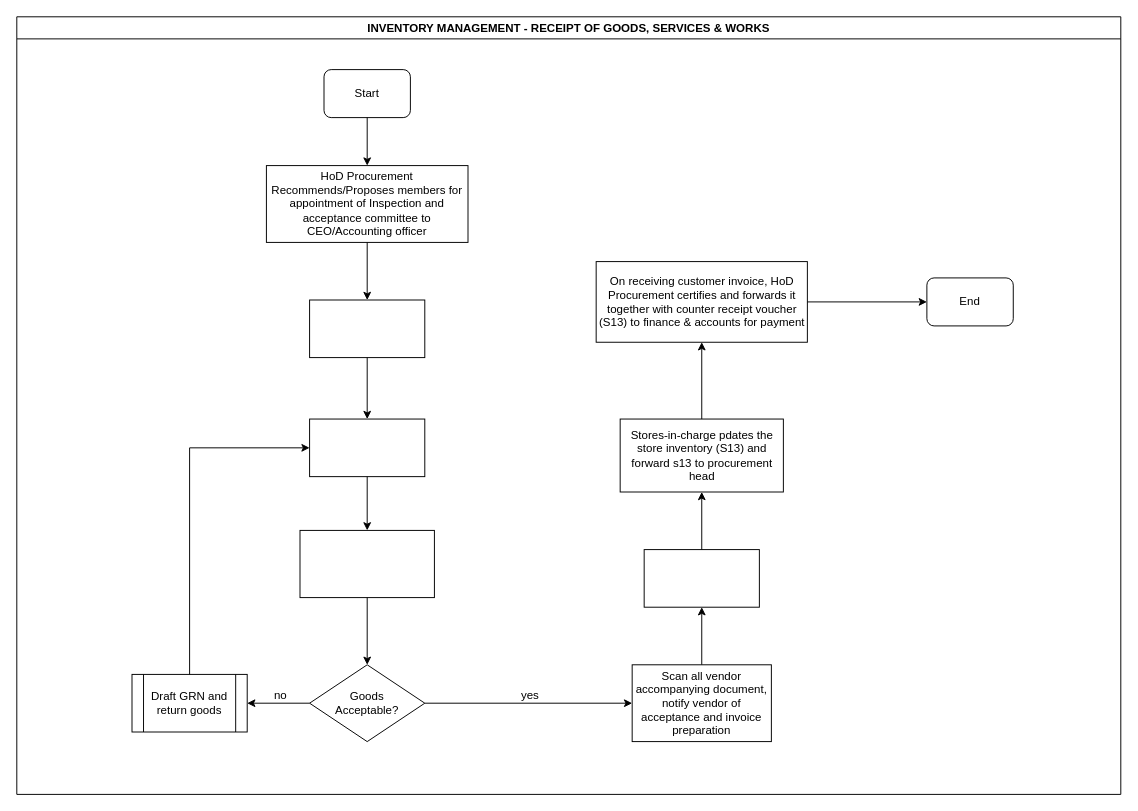
Image size: 1138x811. Some labels were removed from this diagram. The centre of each missing label's shape, as x and y in pixels:
"Appoint Inspection & acceptance committee" goes at point (367, 328).
"Goods delivered by the supplier" goes at point (367, 447).
"HoD procurement notifies inspection committee to inspect and acknowledge receipt" goes at point (366, 563).
"Procurement notifies store in charge of received goods" goes at point (701, 578).
